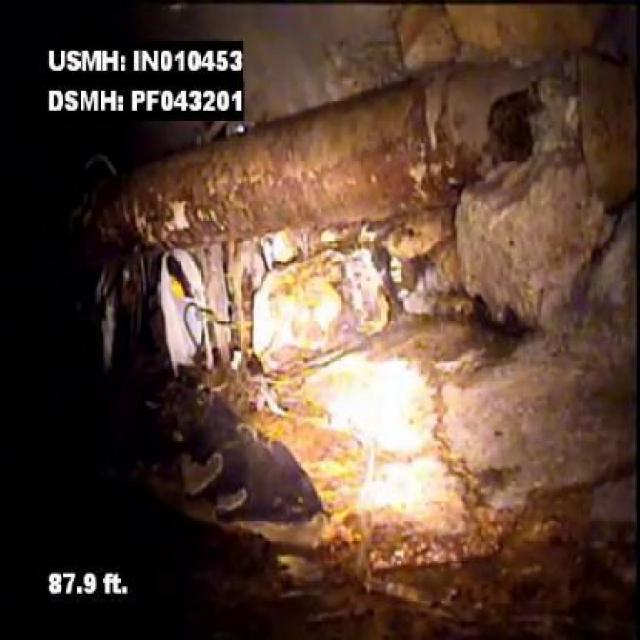Obstacle: (242, 269, 629, 526)
Utility intrusion: (32, 36, 634, 270)
